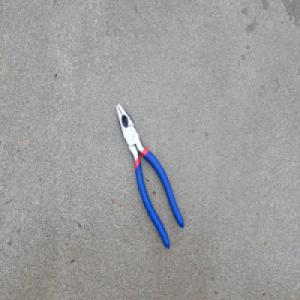Pliers: (115, 100, 185, 250)
